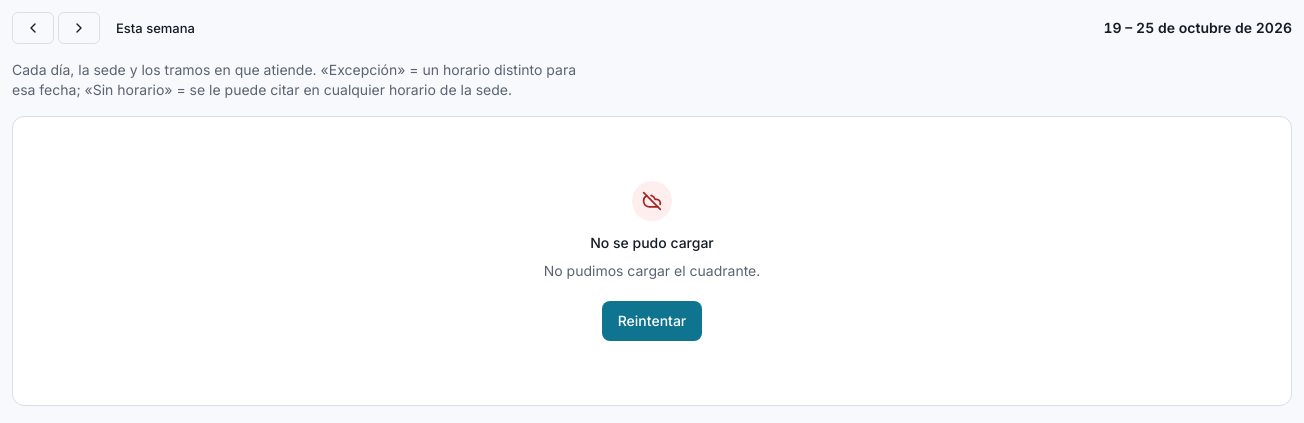
Test: ScheduleRoster › error con reintento
Expected: the message shows "No pudimos cargar el cuadrante.", [544,262,760,279]
Click the button "Reintentar". click: (652, 321)
box: [602,301,702,341]
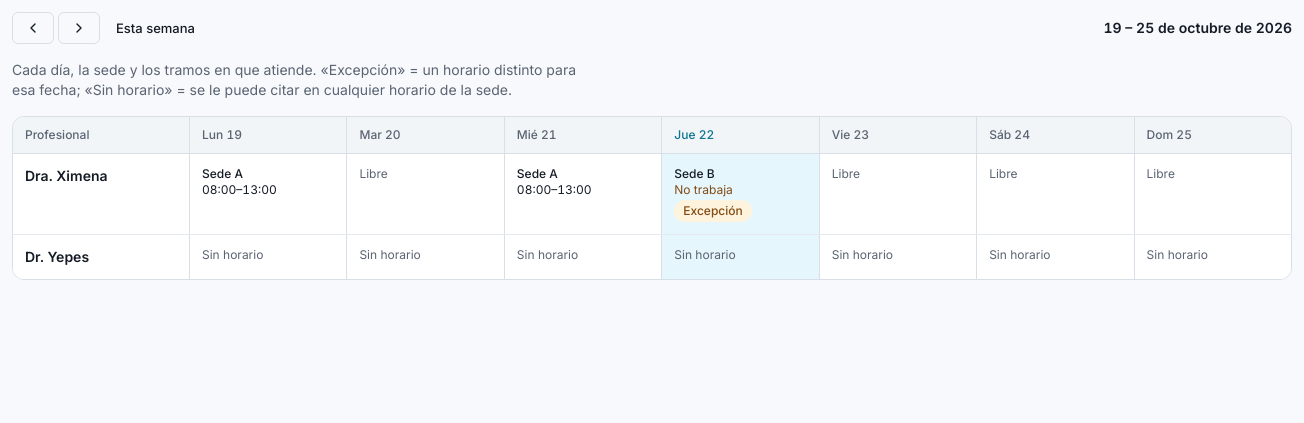
Now the element "Dra. Ximena" is shown, box [13,154,1291,235]
